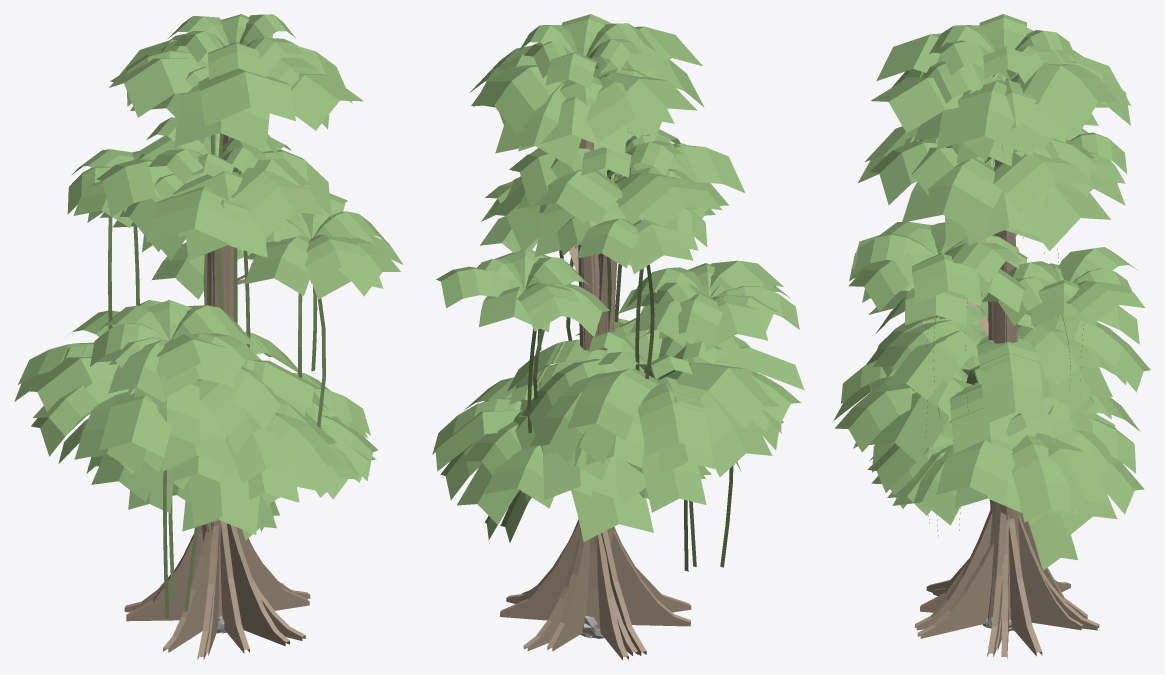
The model's file is jungle.glb.
The picture shows the model from 3 angles, left to right: view 1: azimuth 30°, elevation 25°; view 2: azimuth 150°, elevation 25°; view 3: azimuth 270°, elevation 25°; orthographic projection.
Visible parts, largest first — view 1: Boom1, Boom2, Palm2, Boom2_far, Boom1_far, Palm1, Palm2_far, Palm3, Palm1_far, Palm3_far; view 2: Boom1, Boom2, Palm2, Palm3, Boom2_far, Boom1_far, Palm2_far, Palm1, Palm3_far, Palm1_far; view 3: Boom2, Boom1, Palm2, Palm3, Boom2_far, Boom1_far, Palm1, Palm3_far, Palm1_far, Palm2_far.
Part boxes in pixels (x1,y1,x2,y2): Boom1: (87, 117, 331, 652); Boom2: (67, 14, 400, 655); Palm2: (18, 310, 305, 541); Boom2_far: (109, 39, 403, 659); Boom1_far: (96, 153, 313, 653); Palm1: (58, 392, 344, 543); Palm2_far: (14, 331, 317, 541); Palm3: (86, 373, 377, 505); Palm1_far: (91, 399, 338, 530); Palm3_far: (173, 425, 376, 534); Boom1: (436, 128, 799, 660); Boom2: (469, 14, 707, 655); Palm2: (507, 318, 800, 630); Palm3: (432, 377, 711, 542); Boom2_far: (473, 26, 702, 651); Boom1_far: (489, 143, 783, 655); Palm2_far: (507, 318, 804, 534); Palm1: (510, 364, 783, 512); Palm3_far: (434, 410, 702, 524); Palm1_far: (520, 365, 769, 480); Boom2: (848, 14, 1130, 658); Boom1: (849, 126, 1144, 650); Palm2: (866, 292, 1150, 622); Palm3: (853, 382, 1140, 570); Boom2_far: (862, 28, 1131, 656); Boom1_far: (851, 136, 1125, 656); Palm1: (835, 345, 1114, 500); Palm3_far: (867, 414, 1144, 518); Palm1_far: (833, 377, 1111, 506); Palm2_far: (868, 290, 1126, 420).
Size of the model in its own units: 8.79 by 15.24 by 7.33.
